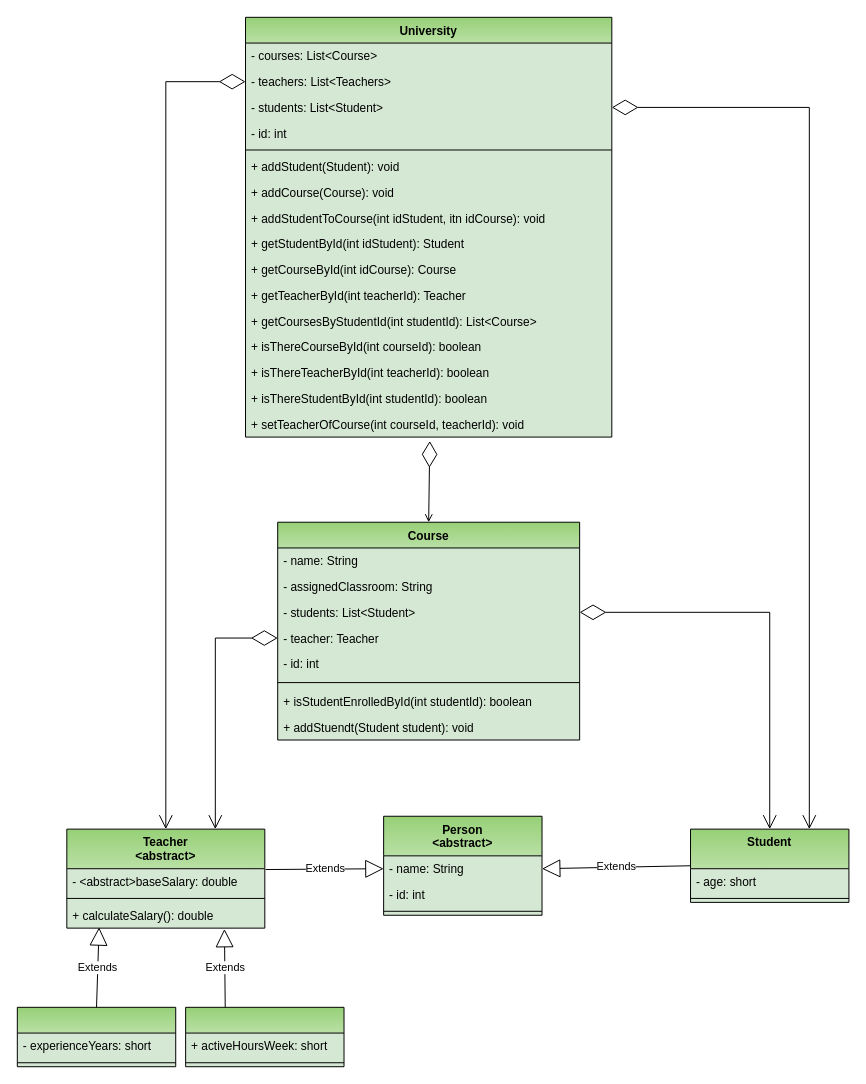
Image size: 866x1084. Some labels were removed from this diagram. Each missing label, with the box of its shape:
FullTimeTeacher: (16, 1006, 176, 1067)
PartTimeTeacher: (185, 1006, 344, 1067)
